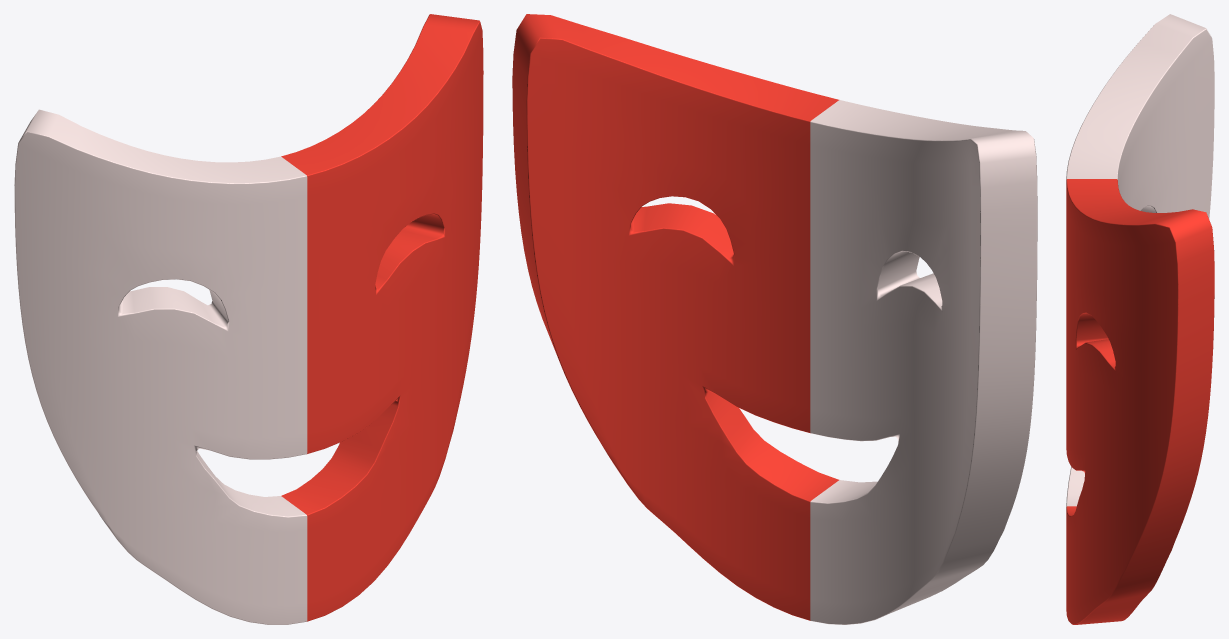
File: Public_12_Mask_Theatre_1.glb
3 renders of one model, left to right at view 1: azimuth 30°, elevation 25°; view 2: azimuth 150°, elevation 25°; view 3: azimuth 270°, elevation 25°, orthographic. The views are drawn at different scales.
Parts seen in each view (by area): view 1: Public_12_Mask_Theatre_1; view 2: Public_12_Mask_Theatre_1; view 3: Public_12_Mask_Theatre_1.
Boxes of the visible parts, x1,y1,x2,y2 form: Public_12_Mask_Theatre_1: (14,14,483,624); Public_12_Mask_Theatre_1: (512,14,1037,624); Public_12_Mask_Theatre_1: (1066,14,1214,624).
Size of the model in its own units: 2.01 by 2.08 by 0.5731.
1 material, 1 textured.
